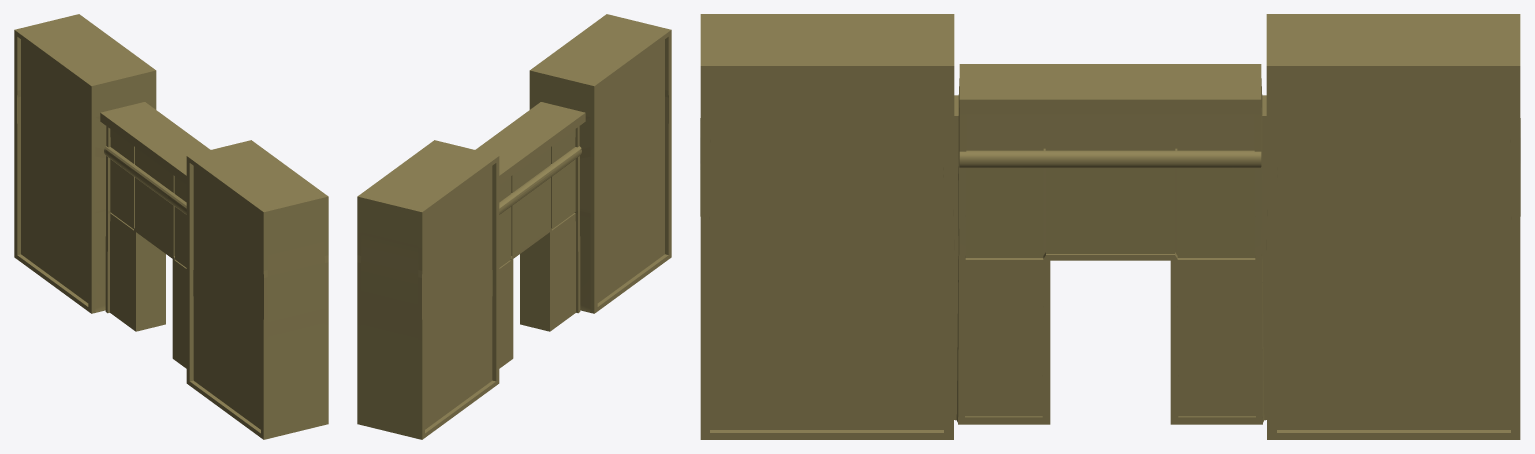
Rendered from Passagem.fbx.
3 views of the same model, side by side, from view 1: azimuth 30°, elevation 25°; view 2: azimuth 150°, elevation 25°; view 3: azimuth 270°, elevation 25° (orthographic). The views are drawn at different scales.
Parts seen in each view (by area): view 1: Passagem; view 2: Passagem; view 3: Passagem.
Boxes of the visible parts, left/top/right/bottom form: Passagem: left=14, top=14, right=328, bottom=439; Passagem: left=357, top=14, right=671, bottom=439; Passagem: left=700, top=14, right=1520, bottom=439.
Size of the model in its own units: 10.59 by 35.57 by 70.65.
